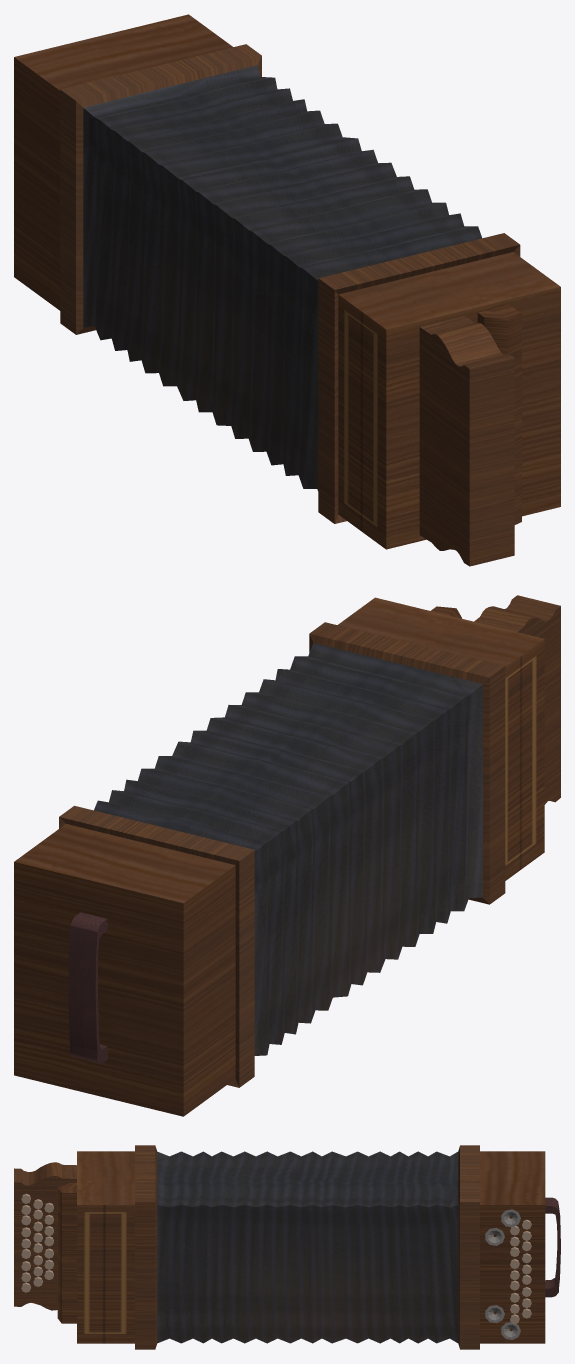
The model's file is ziha.fbx.
3 renders of one model, top to bottom at view 1: azimuth 30°, elevation 25°; view 2: azimuth 150°, elevation 25°; view 3: azimuth 270°, elevation 25°, orthographic. The views are drawn at different scales.
Parts seen in each view (by area): view 1: pCube2; view 2: pCube2; view 3: pCube2.
Boxes of the visible parts, x1=… form: pCube2: x1=14, y1=14, x2=560, y2=566; pCube2: x1=14, y1=595, x2=560, y2=1116; pCube2: x1=14, y1=1145, x2=560, y2=1349.
Bounding box in the file's own units: 4.03 × 4.84 × 16.31.
